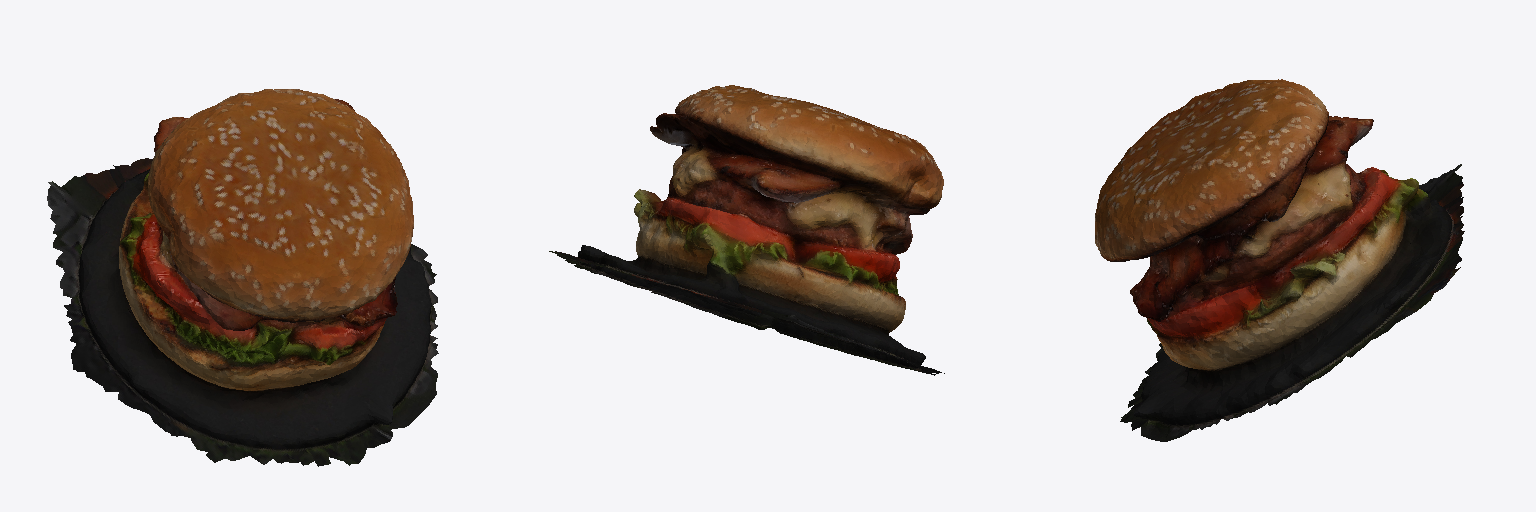
3 renders of one model, left to right at view 1: azimuth 30°, elevation 25°; view 2: azimuth 150°, elevation 25°; view 3: azimuth 270°, elevation 25°, orthographic.
Size of the model in its own units: 2.73 by 2.24 by 2.42.
1 materials, 1 textured.